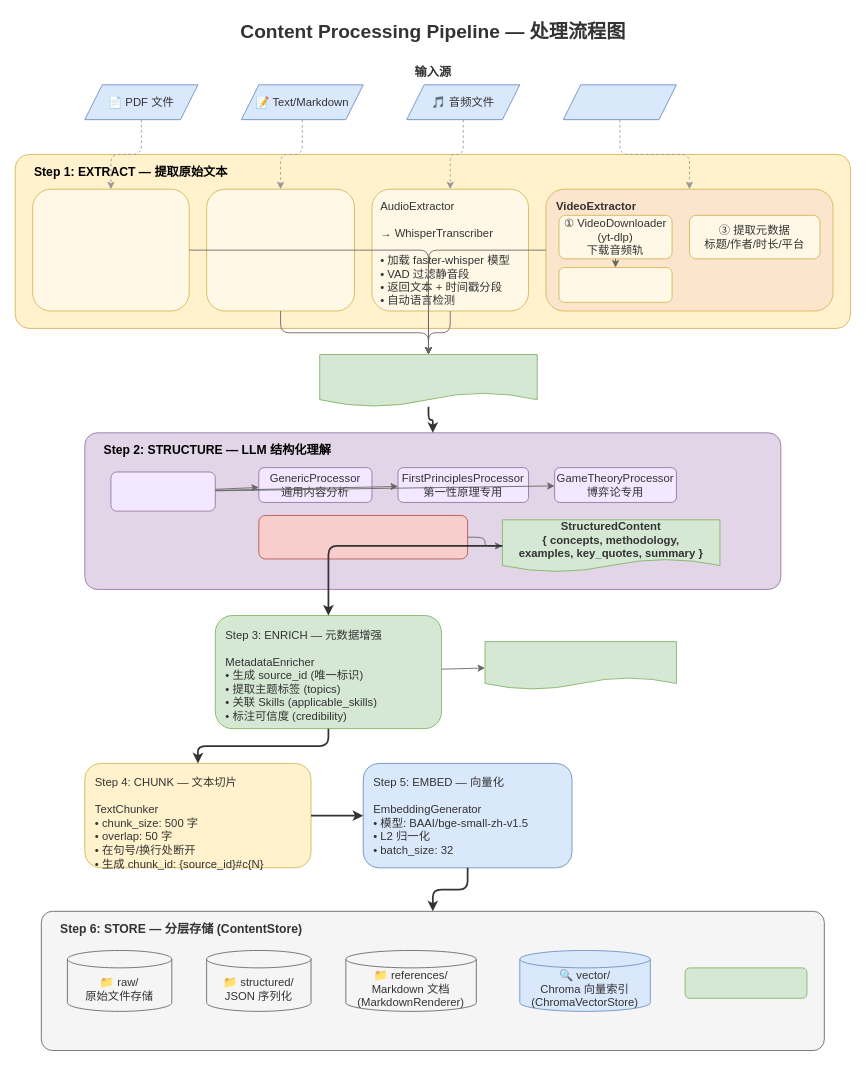
The diagram is 866 pixels wide and 1066 high, and some of its shapes have lost their labels. Each missing label, with the box of its shape:
EnrichedMetadata { source_id, topics, applicable_skills, ... }: (484, 641, 676, 689)
ExtractedContent { text, metadata, raw_path }: (319, 354, 537, 407)
LLMStructurer (调度器): (110, 471, 215, 511)
PDFExtractor (pdfplumber) • 逐页提取文本 • 提取元数据(标题/作者/页数) • 保留页码标记 [Page N]: (32, 188, 189, 311)
TextExtractor • 直接读取 .txt/.md • 提取文件元数据 • 检测编码: (206, 188, 355, 311)
② WhisperTranscriber 音频 → 文本: (558, 267, 672, 302)
☁️ 调用 LLM (GPT-4o / Qwen) 发送 analysis_prompt + 原始文本 要求 JSON 格式输出: (258, 515, 468, 559)
✅ ProcessingResult: (684, 967, 807, 998)
🎬 视频 URL: (562, 84, 676, 120)
